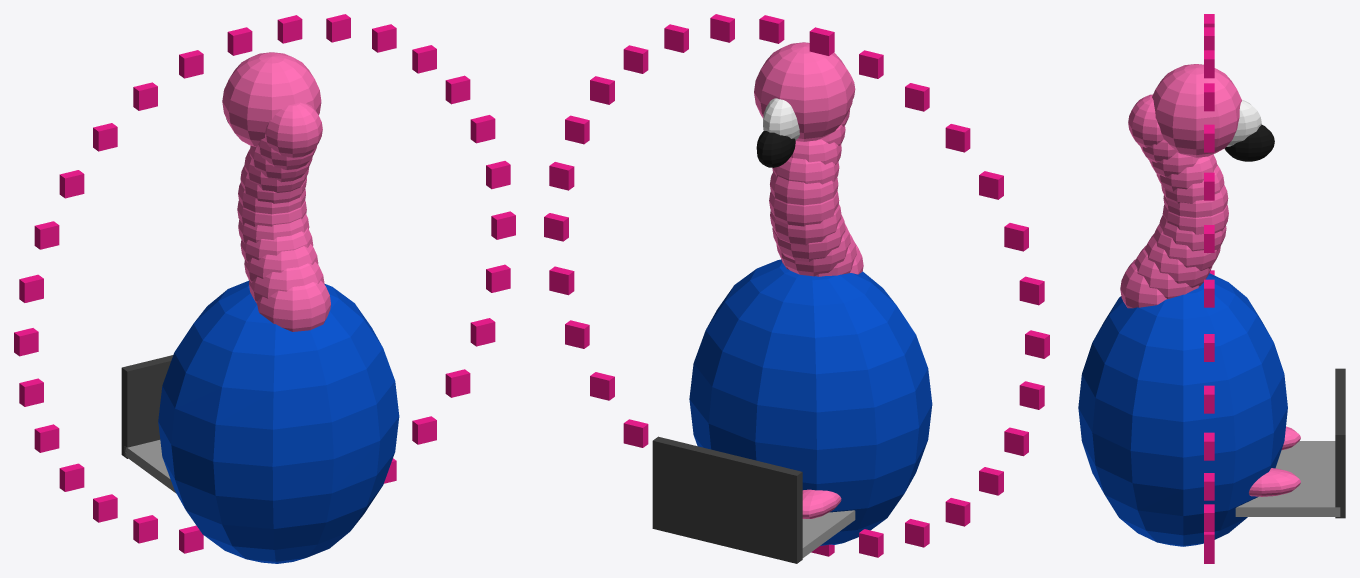
The model's file is flamingo_3d.obj.
The picture shows the model from 3 angles, left to right: view 1: azimuth 30°, elevation 25°; view 2: azimuth 150°, elevation 25°; view 3: azimuth 270°, elevation 25°; orthographic projection. The views are drawn at different scales.
Size of the model in its own units: 2.08 by 2.08 by 1.02.
